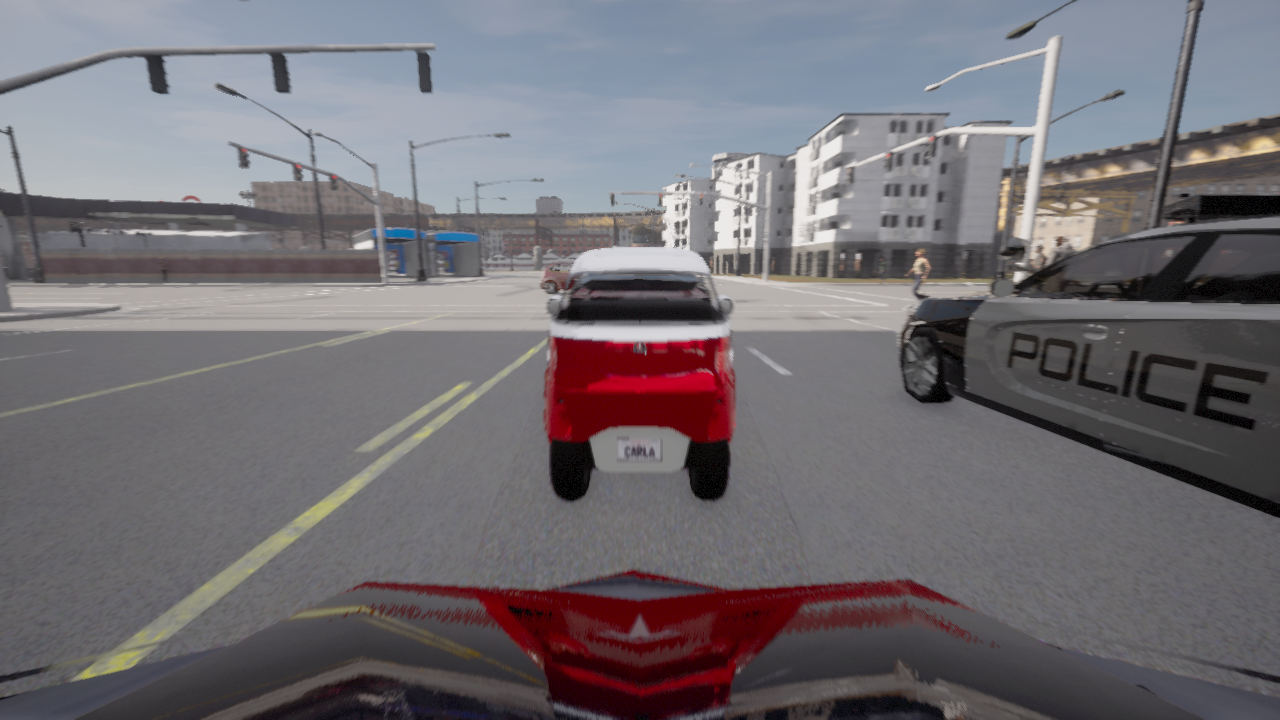cyclist: (0, 569, 1279, 719), (898, 193, 1279, 518), (545, 248, 735, 500), (539, 261, 575, 294), (3, 264, 36, 279)
pedestrian: (905, 248, 929, 300), (1045, 236, 1077, 266), (158, 257, 169, 283), (1033, 245, 1045, 268), (877, 258, 885, 283)
